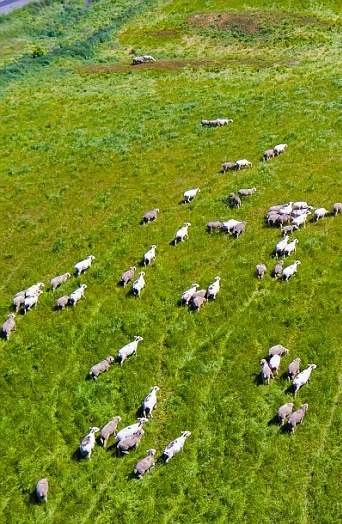sheep: (161, 430, 192, 467), (128, 446, 161, 479), (282, 404, 313, 435), (115, 332, 149, 360), (141, 387, 168, 416), (89, 354, 119, 380), (112, 416, 150, 436), (74, 426, 95, 461), (288, 364, 314, 391), (113, 433, 146, 454), (169, 221, 196, 246), (97, 414, 117, 444), (142, 208, 167, 232), (48, 272, 71, 296), (112, 263, 134, 288), (175, 280, 197, 304), (17, 289, 41, 310), (33, 476, 49, 506), (255, 358, 271, 387), (131, 273, 147, 301), (1, 309, 18, 335), (70, 286, 91, 307), (20, 277, 47, 293), (199, 215, 220, 235), (226, 194, 245, 216), (177, 188, 204, 203), (308, 206, 328, 226), (76, 256, 99, 273), (267, 345, 293, 360), (141, 246, 162, 264), (203, 275, 217, 301), (269, 201, 295, 213), (282, 261, 297, 281), (285, 237, 300, 257), (217, 216, 236, 231), (264, 211, 282, 226), (271, 233, 285, 252), (272, 397, 288, 413), (326, 202, 342, 218), (230, 223, 247, 238), (296, 199, 311, 216), (53, 294, 71, 307), (239, 186, 260, 197), (293, 212, 305, 226), (192, 293, 202, 309), (275, 257, 281, 275), (253, 261, 259, 273)
